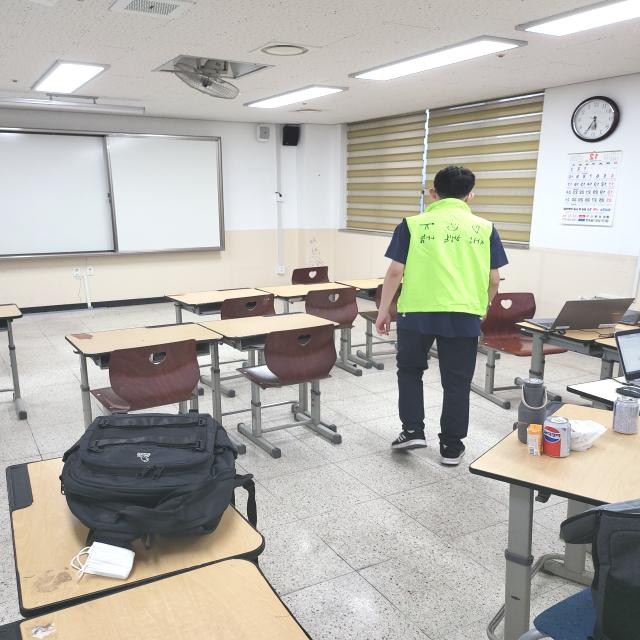weston_spy: (389, 194, 495, 321)
